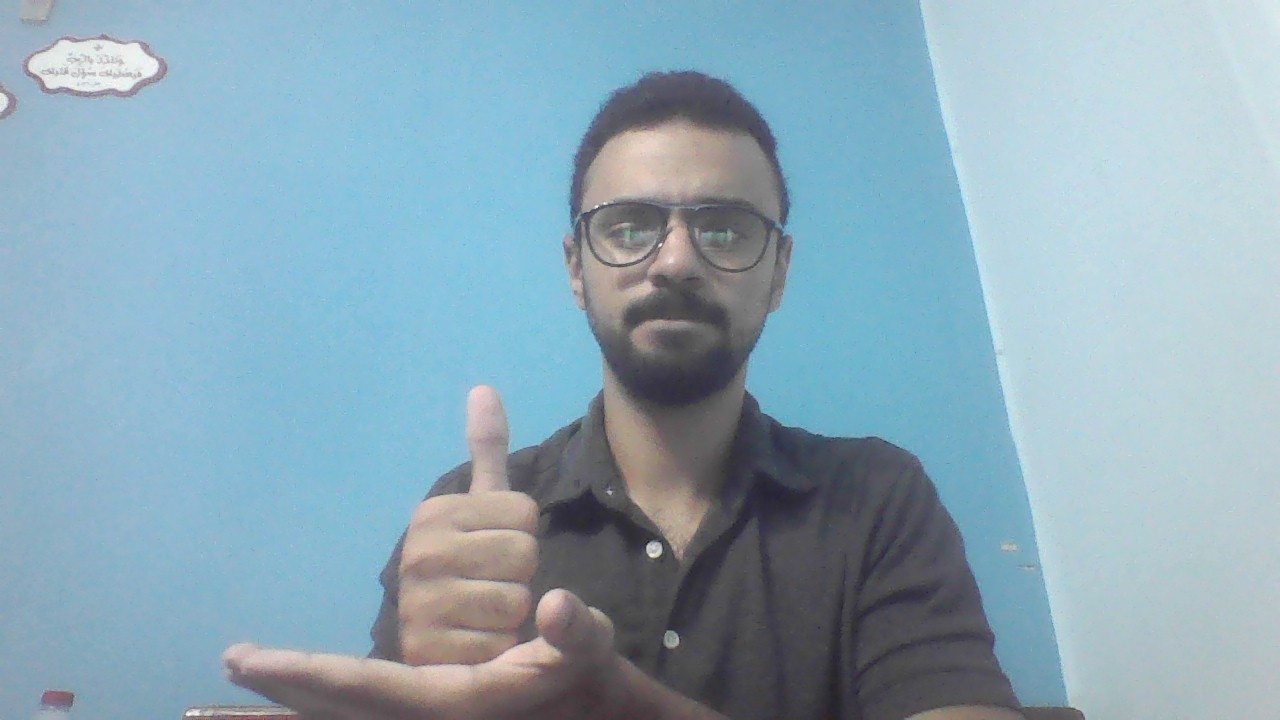help: (225, 385, 624, 717)
